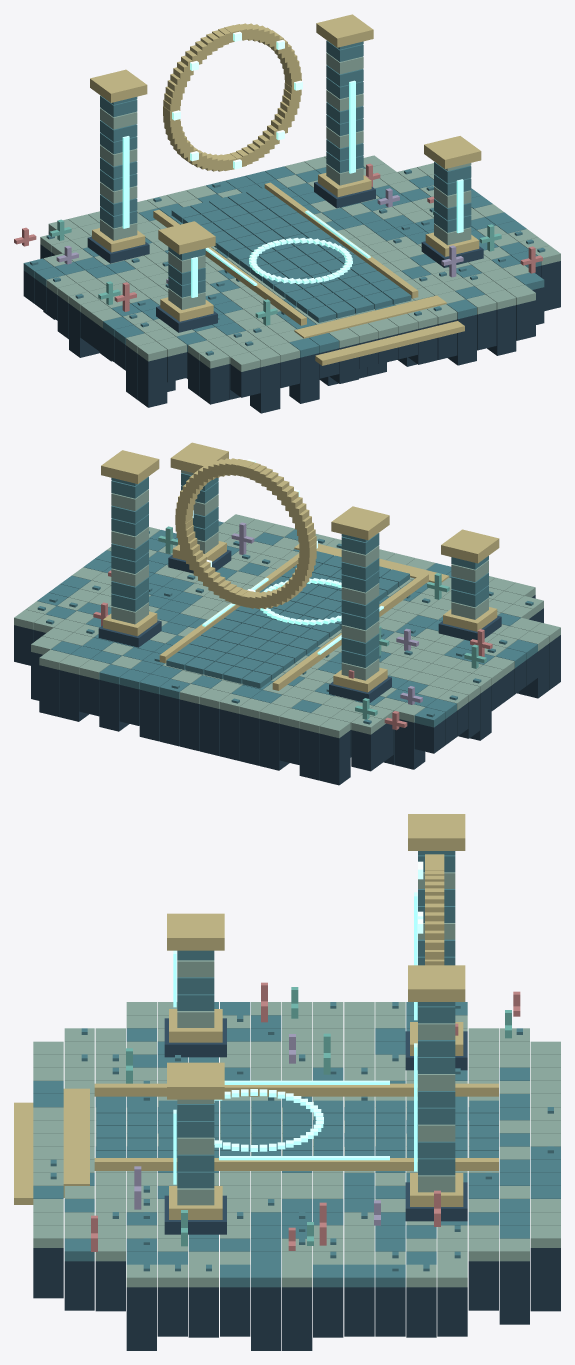
Rendered from preview-tide.glb.
3 renders of one model, top to bottom at view 1: azimuth 30°, elevation 25°; view 2: azimuth 150°, elevation 25°; view 3: azimuth 270°, elevation 25°, orthographic. The views are drawn at different scales.
Parts seen in each view (by area): view 1: Terrain, Floating_Bedrock, Carved_Pillars, Causeway, Celestial_Ring, Pillar_Plinths, Pillar_Capitals, Front_Stairs, Branching_Coral, Causeway_Edge, Pillar_Runes, Tidal_Seal (+3 smaller); view 2: Terrain, Floating_Bedrock, Carved_Pillars, Causeway, Celestial_Ring, Pillar_Capitals, Pillar_Plinths, Branching_Coral, Causeway_Edge, Surface_Chips, Tidal_Seal, Front_Stairs; view 3: Terrain, Floating_Bedrock, Causeway, Carved_Pillars, Pillar_Capitals, Pillar_Plinths, Causeway_Edge, Front_Stairs, Branching_Coral, Surface_Chips, Celestial_Ring, Tidal_Seal (+2 smaller).
Boxes of the visible parts, box(x1,y1,x2,y2) form: Terrain: box(23, 155, 560, 371); Floating_Bedrock: box(23, 231, 560, 413); Carved_Pillars: box(100, 40, 471, 309); Causeway: box(171, 188, 411, 322); Celestial_Ring: box(163, 23, 301, 171); Pillar_Plinths: box(87, 173, 483, 332); Pillar_Capitals: box(90, 14, 481, 254); Front_Stairs: box(294, 295, 464, 365); Branching_Coral: box(14, 163, 542, 325); Causeway_Edge: box(153, 182, 418, 325); Pillar_Runes: box(122, 80, 463, 297); Tidal_Seal: box(249, 237, 352, 284); Terrain: box(14, 514, 560, 738); Floating_Bedrock: box(14, 595, 560, 785); Carved_Pillars: box(111, 470, 488, 680); Causeway: box(166, 551, 409, 688); Celestial_Ring: box(175, 458, 316, 609); Pillar_Capitals: box(101, 442, 499, 563); Pillar_Plinths: box(98, 541, 501, 702); Branching_Coral: box(93, 522, 492, 730); Causeway_Edge: box(159, 553, 428, 690); Surface_Chips: box(37, 531, 533, 724); Tidal_Seal: box(260, 578, 341, 625); Front_Stairs: box(294, 543, 449, 582); Terrain: box(33, 1002, 560, 1287); Floating_Bedrock: box(33, 1248, 560, 1350); Causeway: box(96, 1100, 498, 1157); Carved_Pillars: box(177, 851, 455, 1205); Pillar_Capitals: box(167, 814, 465, 1099); Pillar_Plinths: box(164, 1009, 467, 1234); Causeway_Edge: box(94, 1083, 498, 1170); Front_Stairs: box(14, 1088, 89, 1204); Branching_Coral: box(91, 982, 520, 1251); Surface_Chips: box(50, 1002, 553, 1271); Celestial_Ring: box(425, 854, 444, 965); Tidal_Seal: box(214, 1089, 323, 1151).
Bounding box in the file's own units: 8.39 × 4.83 × 7.04.
